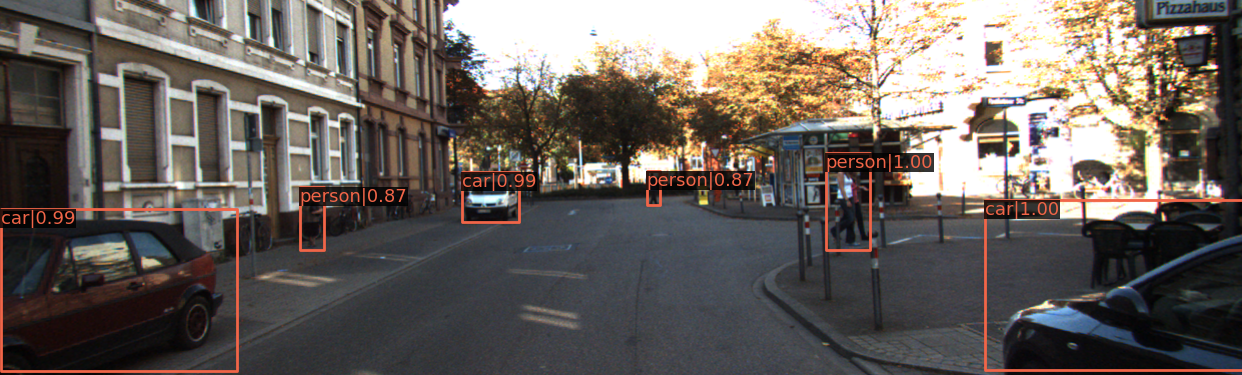car: (996, 163, 1242, 375), (1, 207, 227, 375), (463, 174, 519, 224)
person: (825, 159, 876, 248), (830, 153, 864, 249), (299, 189, 324, 250), (647, 171, 661, 208)
